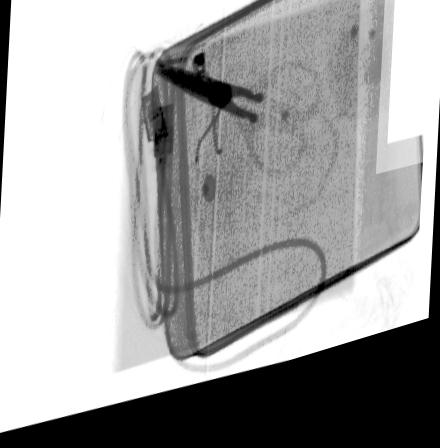Scissors: (157, 72, 323, 197)
